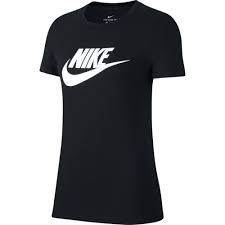nike: (58, 57, 136, 90)
